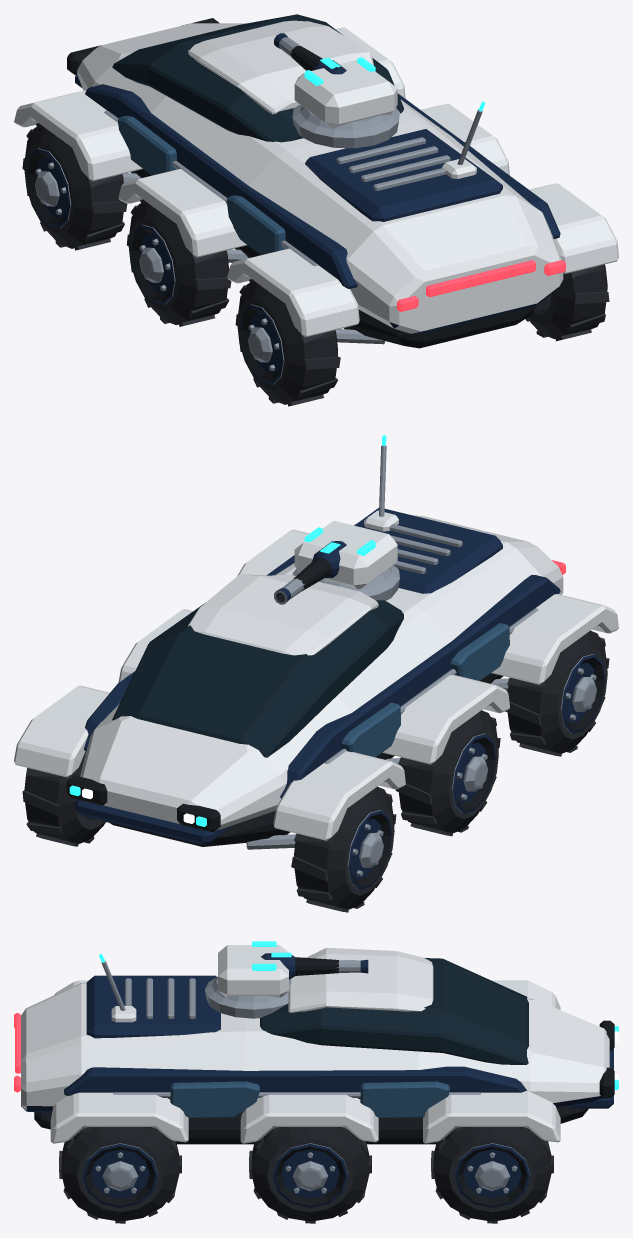
Rendered from helion_rover.glb.
3 renders of one model, top to bottom at view 1: azimuth 30°, elevation 25°; view 2: azimuth 150°, elevation 25°; view 3: azimuth 270°, elevation 25°, orthographic. The views are drawn at different scales.
Visible parts, largest first — view 1: Fixed_Hull, Roof_Turret_Mesh, Wheel_L_01_Mesh, Wheel_L_02_Mesh, Wheel_L_03_Mesh, Wheel_R_01_Mesh; view 2: Fixed_Hull, Wheel_L_03_Mesh, Wheel_L_01_Mesh, Wheel_L_02_Mesh, Roof_Turret_Mesh, Wheel_R_03_Mesh; view 3: Fixed_Hull, Wheel_R_03_Mesh, Wheel_R_02_Mesh, Wheel_R_01_Mesh, Roof_Turret_Mesh.
Part boxes in pixels (left/top/right/bottom): Fixed_Hull: left=14, top=14, right=618, bottom=348; Roof_Turret_Mesh: left=274, top=33, right=399, bottom=148; Wheel_L_01_Mesh: left=235, top=279, right=340, bottom=406; Wheel_L_02_Mesh: left=127, top=199, right=231, bottom=326; Wheel_L_03_Mesh: left=22, top=123, right=127, bottom=250; Wheel_R_01_Mesh: left=525, top=264, right=609, bottom=341; Fixed_Hull: left=14, top=435, right=618, bottom=849; Wheel_L_03_Mesh: left=291, top=786, right=396, bottom=912; Wheel_L_01_Mesh: left=505, top=630, right=609, bottom=756; Wheel_L_02_Mesh: left=395, top=710, right=500, bottom=836; Roof_Turret_Mesh: left=274, top=520, right=399, bottom=604; Wheel_R_03_Mesh: left=22, top=751, right=108, bottom=846; Fixed_Hull: left=14, top=947, right=618, bottom=1144; Wheel_R_03_Mesh: left=431, top=1127, right=553, bottom=1223; Wheel_R_02_Mesh: left=249, top=1127, right=371, bottom=1223; Wheel_R_01_Mesh: left=59, top=1127, right=181, bottom=1223; Roof_Turret_Mesh: left=205, top=941, right=368, bottom=1018.
Size of the model in its own units: 3.8 by 2.8 by 6.8.
